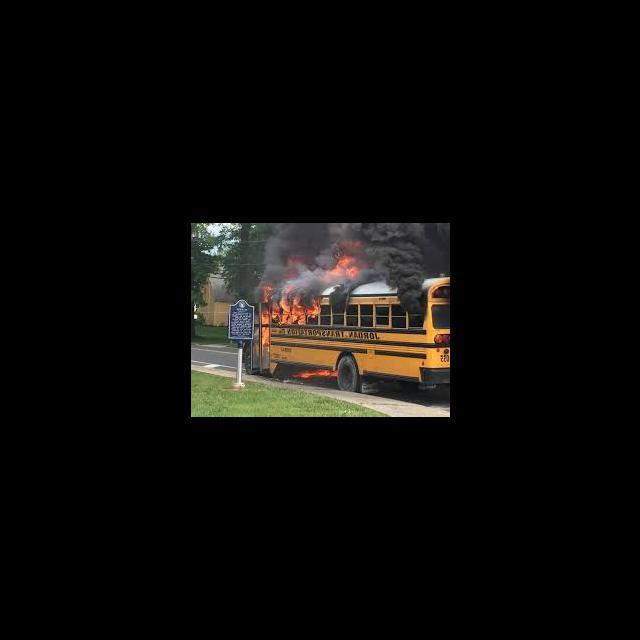Fire: (272, 294, 324, 324), (329, 244, 362, 278), (260, 284, 272, 356), (293, 366, 339, 382)
Smoke: (363, 224, 448, 272), (266, 223, 327, 280), (329, 223, 363, 242)
